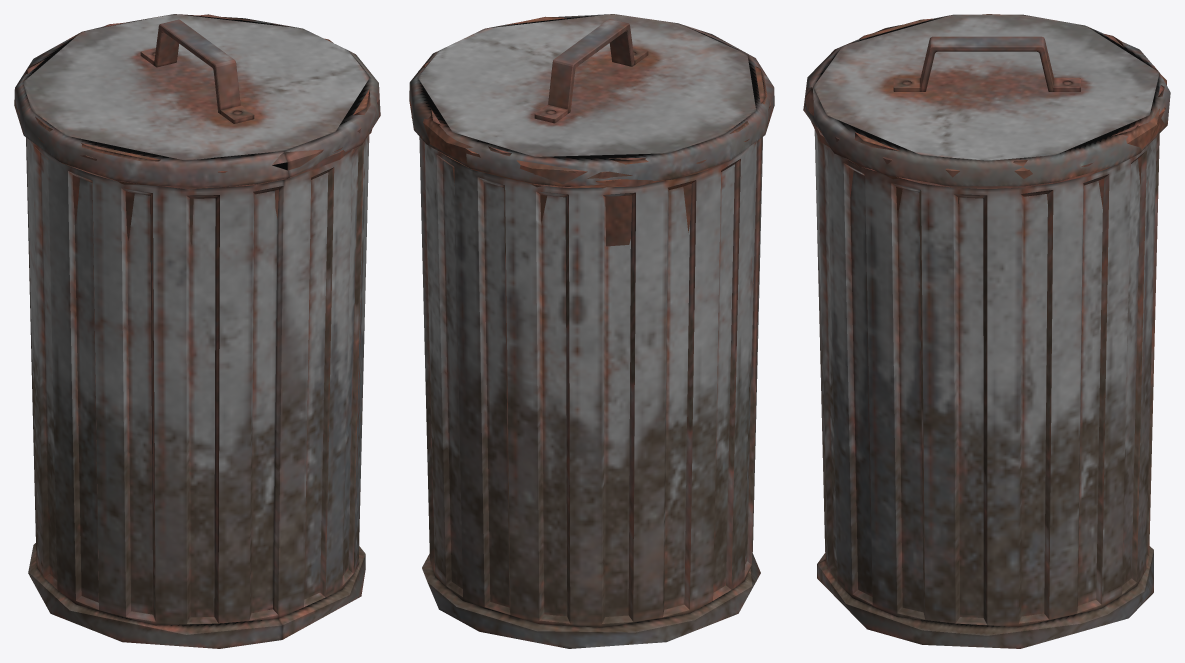
File: bin.glb
3 views of the same model, side by side, from view 1: azimuth 30°, elevation 25°; view 2: azimuth 150°, elevation 25°; view 3: azimuth 270°, elevation 25° (orthographic).
Parts seen in each view (by area): view 1: Cylinder.001_metal bin_0; view 2: Cylinder.001_metal bin_0; view 3: Cylinder.001_metal bin_0.
Boxes of the visible parts, x1,y1,x2,y2 form: Cylinder.001_metal bin_0: [14, 14, 380, 648]; Cylinder.001_metal bin_0: [409, 14, 774, 648]; Cylinder.001_metal bin_0: [803, 14, 1170, 648].
Size of the model in its own units: 0.2698 by 0.4389 by 0.2721.
Materials: 1 (1 with a texture image).
